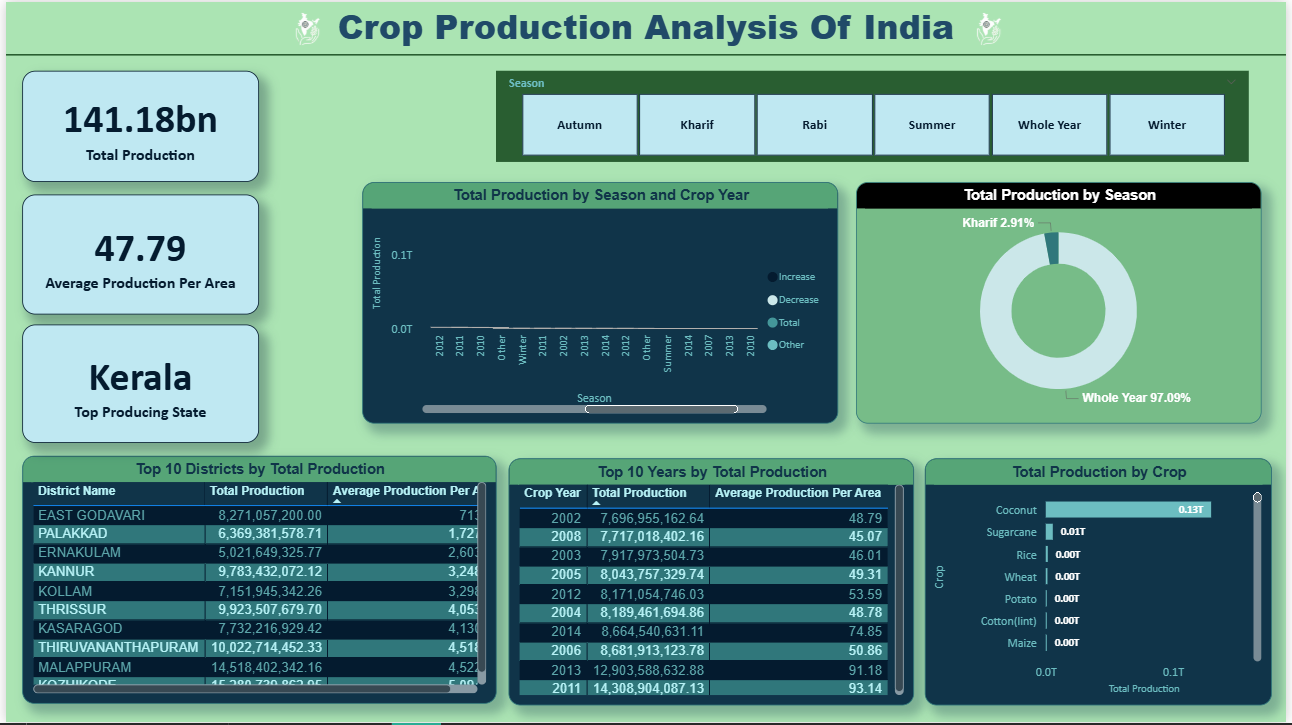

The page's visual inventory and layout, read from the dashboard file:
{"tool":"powerbi","page":{"name":"Overview and Insights","canvas":[1280,720],"ordinal":0},"visuals":[{"type":"shape","title":"Crop Production Analysis Of India","box":[0,0,1280,53.9],"z":0},{"type":"waterfallChart","fields":{"Category":["Crop Production.Season"],"Breakdown":["Crop Production.Crop Year"],"Y":["Crop Production.Total Production"]},"box":[355.7,180,475.7,241.4],"z":2000},{"type":"donutChart","fields":{"Category":["Crop Production.Season"],"Y":["Crop Production.Total Production"]},"box":[850,180,405.7,241.4],"z":3000},{"type":"tableEx","title":"Top 10 Districts by Total Production","fields":{"Values":["Crop Production.District Name","Crop Production.Total Production","Crop Production.Average Production Per Area"]},"box":[16,454,474,248],"z":4000},{"type":"tableEx","title":"Top 10 Years by Total Production","fields":{"Values":["Crop Production.Crop Year","Crop Production.Total Production","Crop Production.Average Production Per Area"]},"box":[502.9,455.7,405.7,247.1],"z":5000},{"type":"barChart","fields":{"Category":["Crop Production.Crop"],"Y":["Crop Production.Total Production"]},"box":[918.6,455.7,347.1,247.1],"z":6000},{"type":"card","fields":{"Values":["Crop Production.Total Production"]},"box":[15.7,68.6,237.1,111.4],"z":7000},{"type":"card","fields":{"Values":["Crop Production.Average Production Per Area"]},"box":[15.7,192.9,237.1,120],"z":8000},{"type":"card","fields":{"Values":["Crop Production.Top Producing State"]},"box":[15.7,322.9,237.1,118.6],"z":9000},{"type":"slicer","fields":{"Values":["Crop Production.Season"]},"box":[490,68.6,752.9,91.4],"z":10000},{"type":"image","box":[274.2,4.8,56,44.1],"z":11000},{"type":"image","box":[954.8,4.8,56,44.1],"z":11001}]}

Visuals, with their boxes in screenshot pixels (x1, y1, x2, y2), scaled from the page's 1280x720 canvas onto the 1292x725 screenshot:
"Crop Production Analysis Of India" shape: <region>0, 0, 1291, 54</region>
waterfallChart - Crop Production.Season x Crop Production.Crop Year: <region>359, 181, 839, 424</region>
donutChart - Crop Production.Season x Crop Production.Total Production: <region>858, 181, 1267, 424</region>
"Top 10 Districts by Total Production" tableEx: <region>16, 457, 495, 707</region>
"Top 10 Years by Total Production" tableEx: <region>508, 459, 917, 708</region>
barChart - Crop Production.Crop x Crop Production.Total Production: <region>927, 459, 1278, 708</region>
card - Crop Production.Total Production: <region>16, 69, 255, 181</region>
card - Crop Production.Average Production Per Area: <region>16, 194, 255, 315</region>
card - Crop Production.Top Producing State: <region>16, 325, 255, 445</region>
slicer - Crop Production.Season: <region>495, 69, 1255, 161</region>
image: <region>277, 5, 333, 49</region>
image: <region>964, 5, 1020, 49</region>
